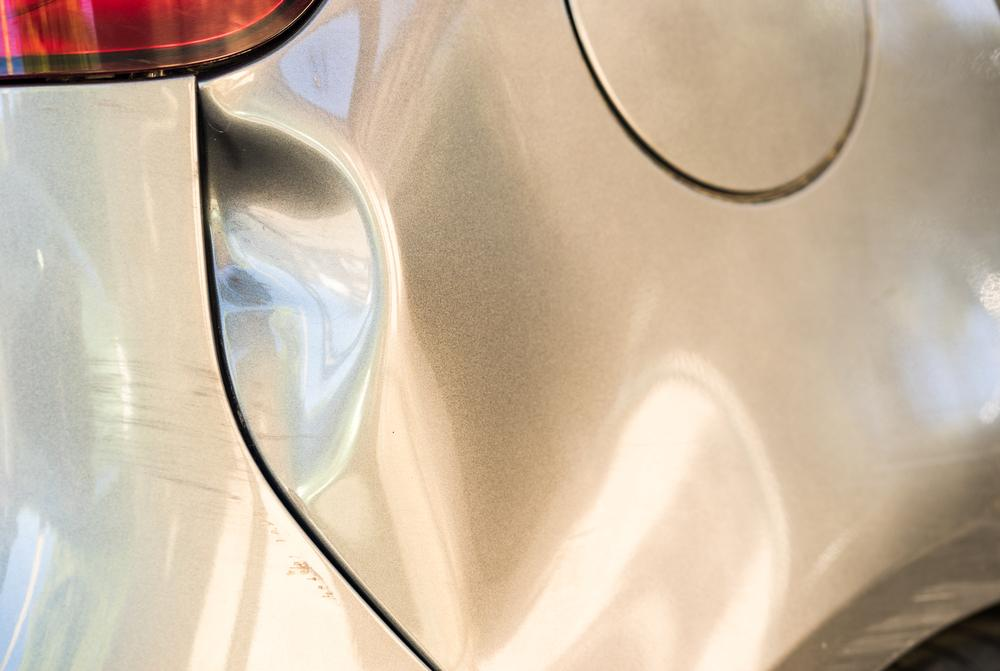dent: (207, 93, 381, 505)
scratch: (86, 359, 340, 603)
